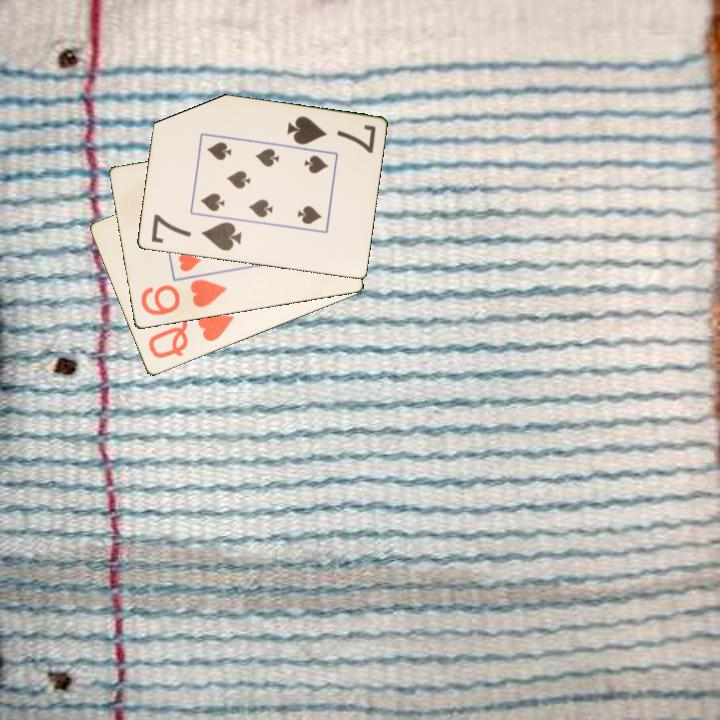6h: (137, 276, 230, 319)
7s: (283, 112, 378, 156), (147, 211, 244, 254)
Qh: (145, 310, 237, 362)
